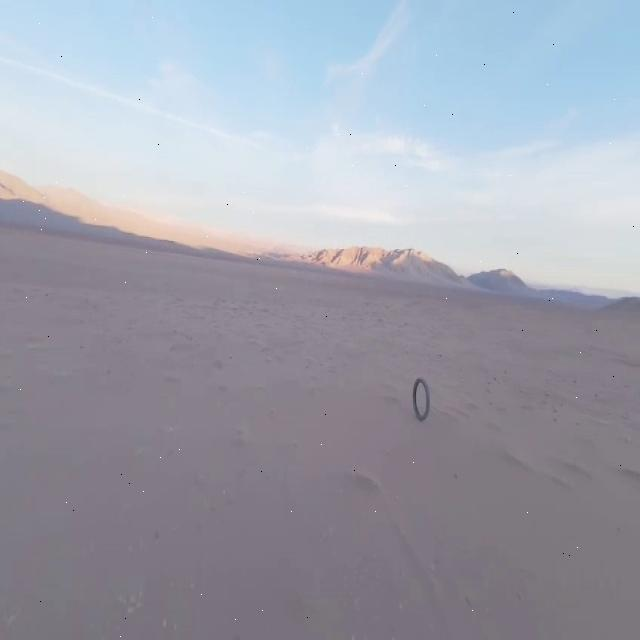Tire: (413, 378, 430, 419)
